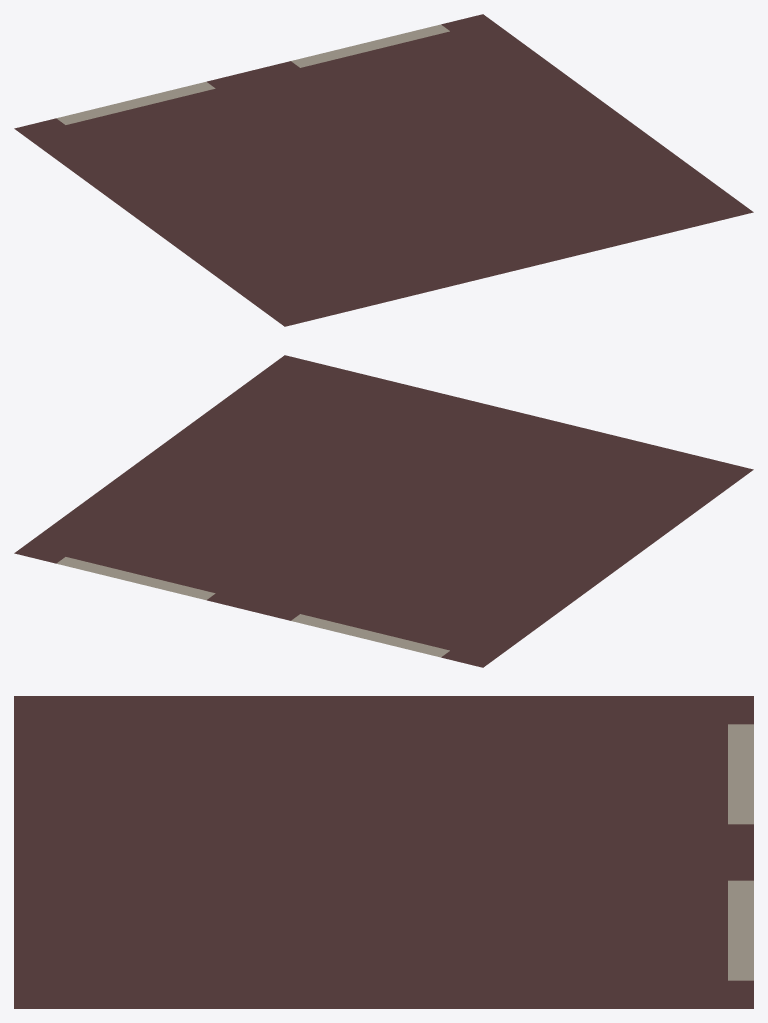
Rendered from Road_1.fbx.
3 views of the same model, one above another, from view 1: azimuth 30°, elevation 25°; view 2: azimuth 150°, elevation 25°; view 3: azimuth 270°, elevation 25° (orthographic). The views are drawn at different scales.
Parts seen in each view (by area): view 1: Road_1; view 2: Road_1; view 3: Road_1.
Boxes of the visible parts, x1,y1,x2,y2 form: Road_1: [14, 14, 753, 326]; Road_1: [14, 355, 753, 667]; Road_1: [14, 696, 753, 1008].
Bounding box in the file's own units: 5 × 6.66e-07 × 5.
